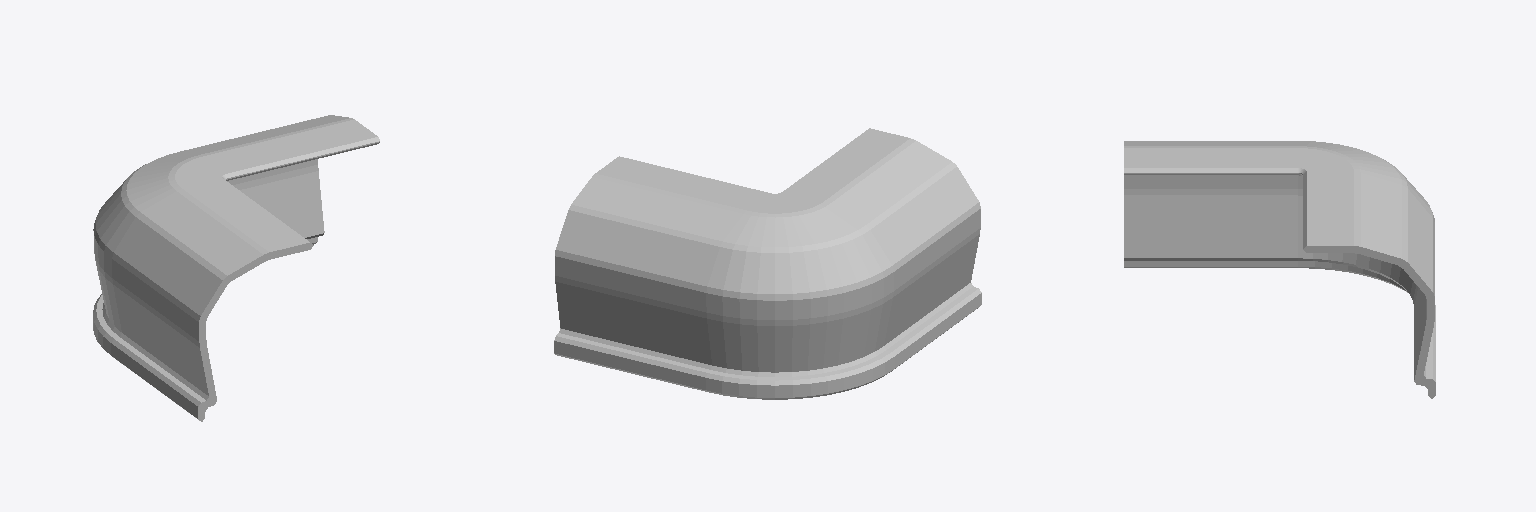
File: buildsquaredcurve2.obj
3 views of the same model, side by side, from view 1: azimuth 30°, elevation 25°; view 2: azimuth 150°, elevation 25°; view 3: azimuth 270°, elevation 25° (orthographic).
Parts seen in each view (by area): view 1: object1; view 2: object1; view 3: object1.
Boxes of the visible parts, box(x1,y1,x2,y2) form: object1: box(93, 115, 379, 421); object1: box(554, 128, 981, 399); object1: box(1124, 141, 1435, 398).
Bounding box in the file's own units: 36.15 × 19.46 × 36.02.